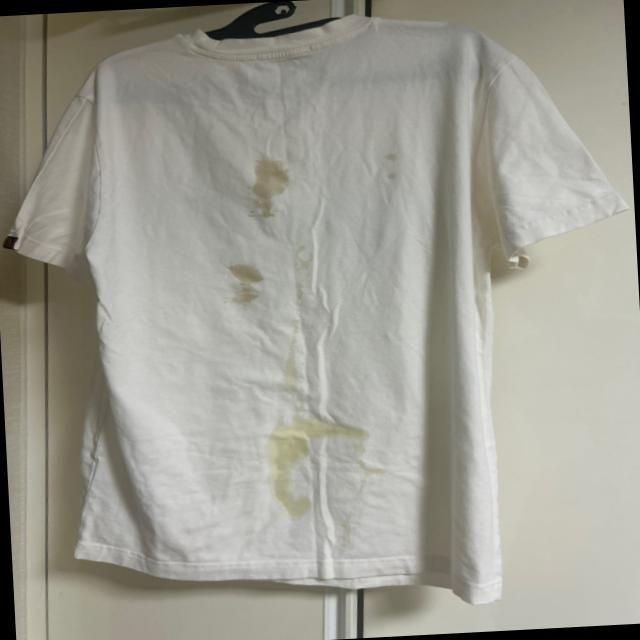stain: (269, 422, 308, 520), (246, 157, 286, 226), (290, 414, 356, 455), (268, 332, 306, 402), (363, 454, 396, 500), (384, 148, 416, 192), (230, 264, 261, 306)
